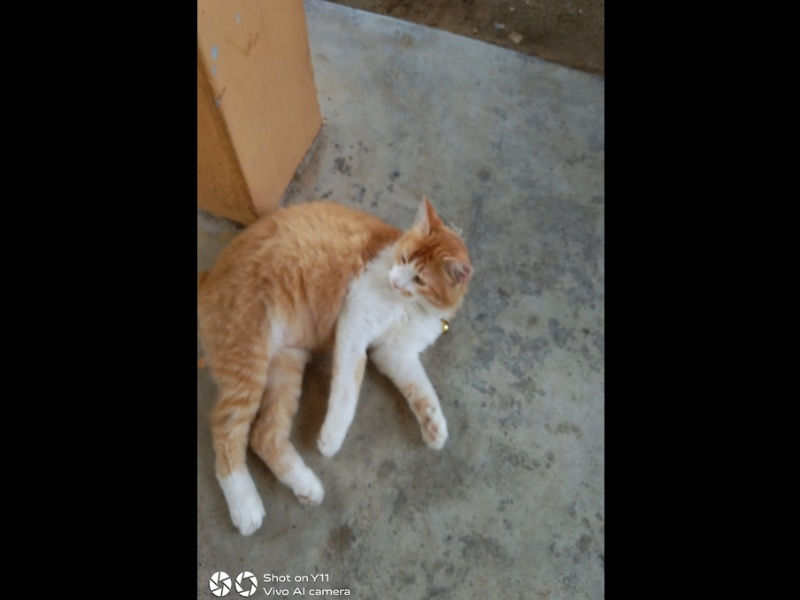cat: (202, 194, 473, 541)
